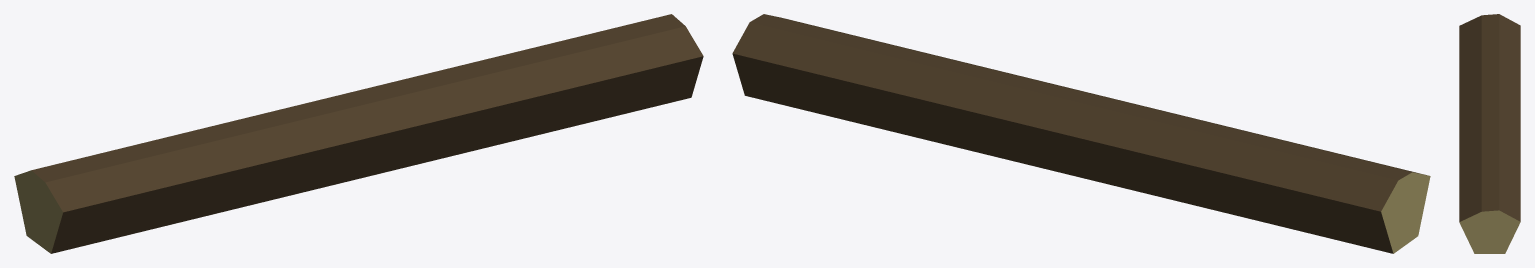
The picture shows the model from 3 angles, left to right: view 1: azimuth 30°, elevation 25°; view 2: azimuth 150°, elevation 25°; view 3: azimuth 270°, elevation 25°; orthographic projection. The views are drawn at different scales.
Visible parts, largest first — view 1: 木材_pCylinder49; view 2: 木材_pCylinder49; view 3: 木材_pCylinder49.
Boxes of the visible parts, <box> form: 木材_pCylinder49: <box>14,14,703,253</box>; 木材_pCylinder49: <box>732,14,1430,253</box>; 木材_pCylinder49: <box>1459,14,1520,253</box>.
Bounding box in the file's own units: 439 × 45.46 × 58.1.
